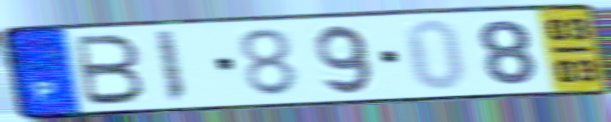0: (401, 18, 470, 93)
8: (236, 26, 299, 98), (477, 18, 541, 86)
9: (313, 22, 376, 96)
B: (72, 33, 148, 108)
I: (151, 28, 189, 106)
